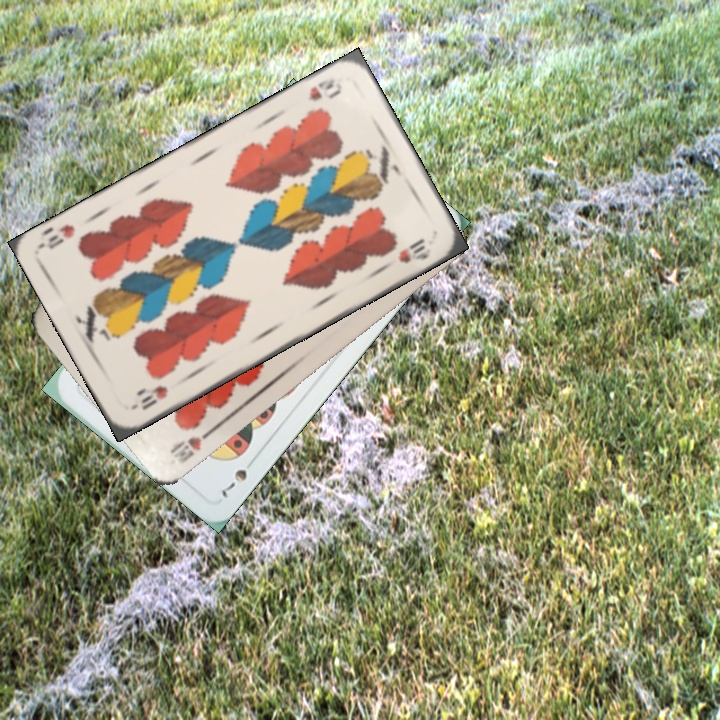H10: (165, 423, 218, 466), (303, 73, 345, 104), (137, 381, 171, 413)
S7: (217, 464, 250, 501)
